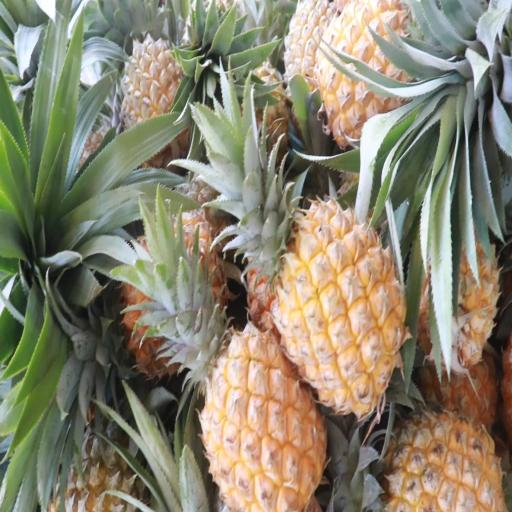Pineapple - v8 v1: (266, 200, 418, 416), (198, 291, 332, 512), (319, 0, 448, 144)
